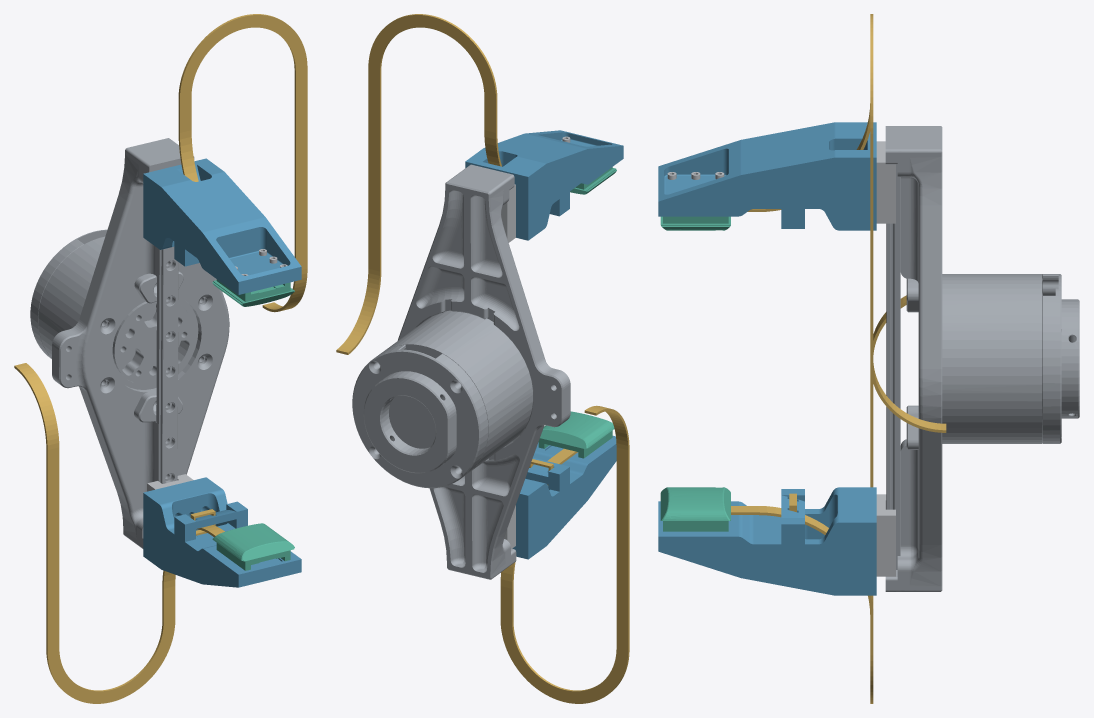
Rendered from assembly_open100.glb.
3 renders of one model, left to right at view 1: azimuth 30°, elevation 25°; view 2: azimuth 150°, elevation 25°; view 3: azimuth 270°, elevation 25°, orthographic. The views are drawn at different scales.
Parts seen in each view (by area): view 1: original_actuator_and_transmission, replacement_finger_2, replacement_finger_1, service_loop_envelope_1, service_loop_envelope_2, M2324_1, M2324_2, moving_harness_envelope_2; view 2: original_actuator_and_transmission, replacement_finger_2, service_loop_envelope_2, service_loop_envelope_1, replacement_finger_1, M2324_1, retained_carrier_2, moving_harness_envelope_1, moving_harness_envelope_2; view 3: original_actuator_and_transmission, replacement_finger_2, replacement_finger_1, M2324_1, service_loop_envelope_2, retained_carrier_1, retained_carrier_2, service_loop_envelope_1, M2324_2, moving_harness_envelope_1.
Boxes of the visible parts, left/top/right/bottom form: original_actuator_and_transmission: left=30, top=138, right=229, bottom=548; replacement_finger_2: left=143, top=158, right=301, bottom=294; replacement_finger_1: left=143, top=477, right=301, bottom=587; service_loop_envelope_1: left=14, top=363, right=175, bottom=703; service_loop_envelope_2: left=178, top=14, right=307, bottom=312; M2324_1: left=212, top=523, right=294, bottom=570; M2324_2: left=212, top=279, right=294, bottom=306; moving_harness_envelope_2: left=178, top=130, right=198, bottom=181; original_actuator_and_transmission: left=352, top=164, right=570, bottom=579; replacement_finger_2: left=465, top=130, right=623, bottom=240; service_loop_envelope_2: left=336, top=14, right=497, bottom=354; service_loop_envelope_1: left=500, top=405, right=629, bottom=703; replacement_finger_1: left=512, top=435, right=616, bottom=559; M2324_1: left=538, top=411, right=614, bottom=458; retained_carrier_2: left=501, top=184, right=515, bottom=242; moving_harness_envelope_1: left=500, top=448, right=577, bottom=588; moving_harness_envelope_2: left=484, top=130, right=501, bottom=166; original_actuator_and_transmission: left=885, top=126, right=1079, bottom=591; replacement_finger_2: left=658, top=122, right=876, bottom=230; replacement_finger_1: left=658, top=487, right=876, bottom=595; M2324_1: left=660, top=487, right=730, bottom=531; service_loop_envelope_2: left=870, top=14, right=946, bottom=432; retained_carrier_1: left=876, top=494, right=895, bottom=576; retained_carrier_2: left=876, top=141, right=895, bottom=223; service_loop_envelope_1: left=870, top=295, right=906, bottom=703; M2324_2: left=660, top=216, right=730, bottom=230; moving_harness_envelope_1: left=731, top=506, right=873, bottom=616.
Size of the model in its own units: 0.1152 by 0.2766 by 0.1412.
